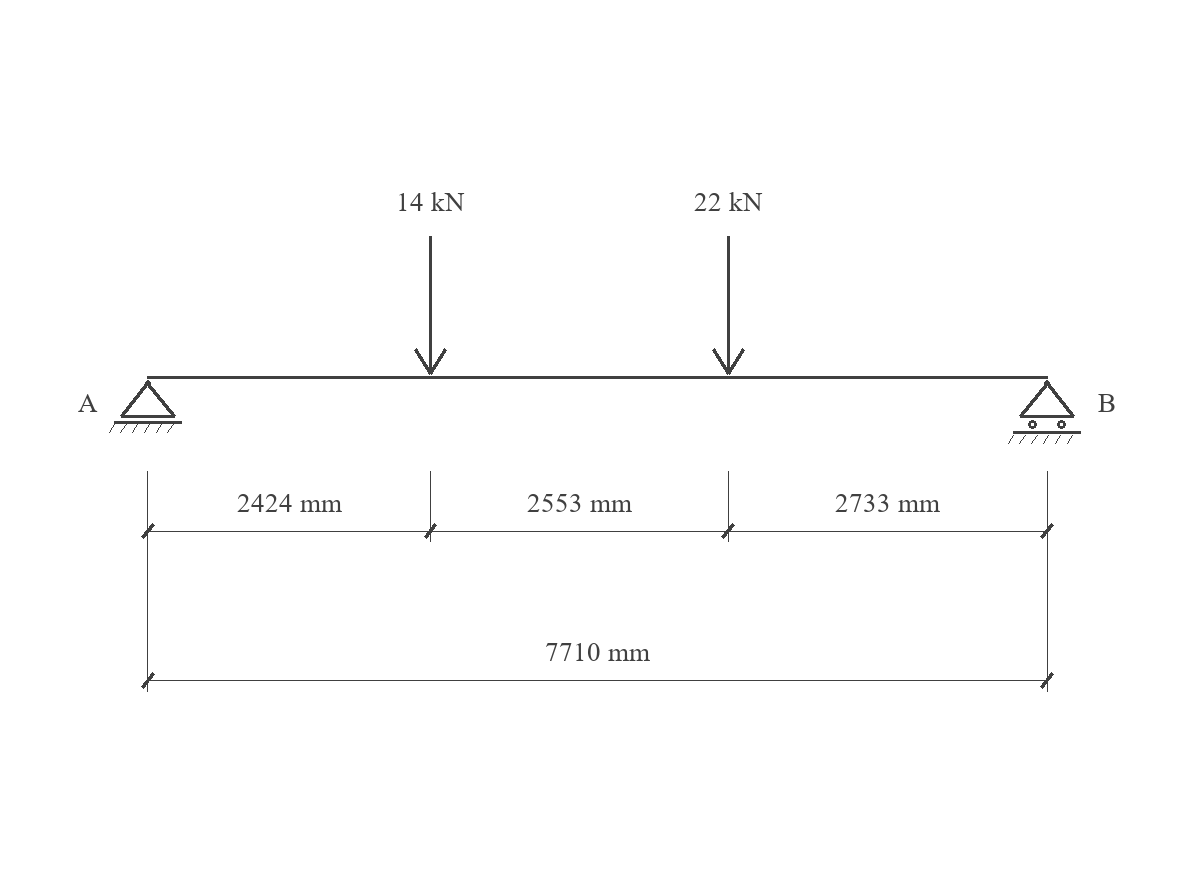pin_support: (109, 380, 182, 433)
point_load: (414, 236, 447, 375), (712, 236, 745, 375)
roller_support: (1008, 380, 1081, 444)
